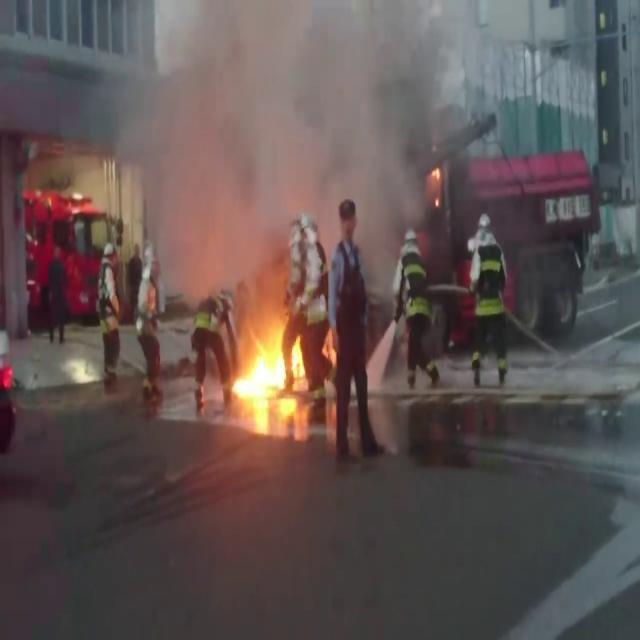Fire: (236, 329, 302, 413), (429, 166, 439, 180)
